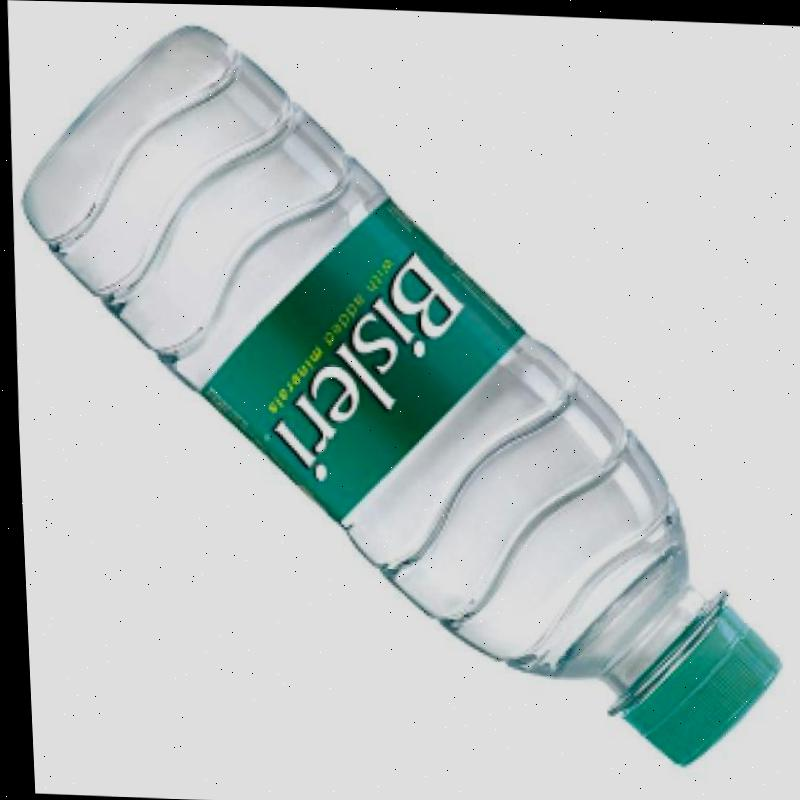botella: (5, 10, 790, 764)
